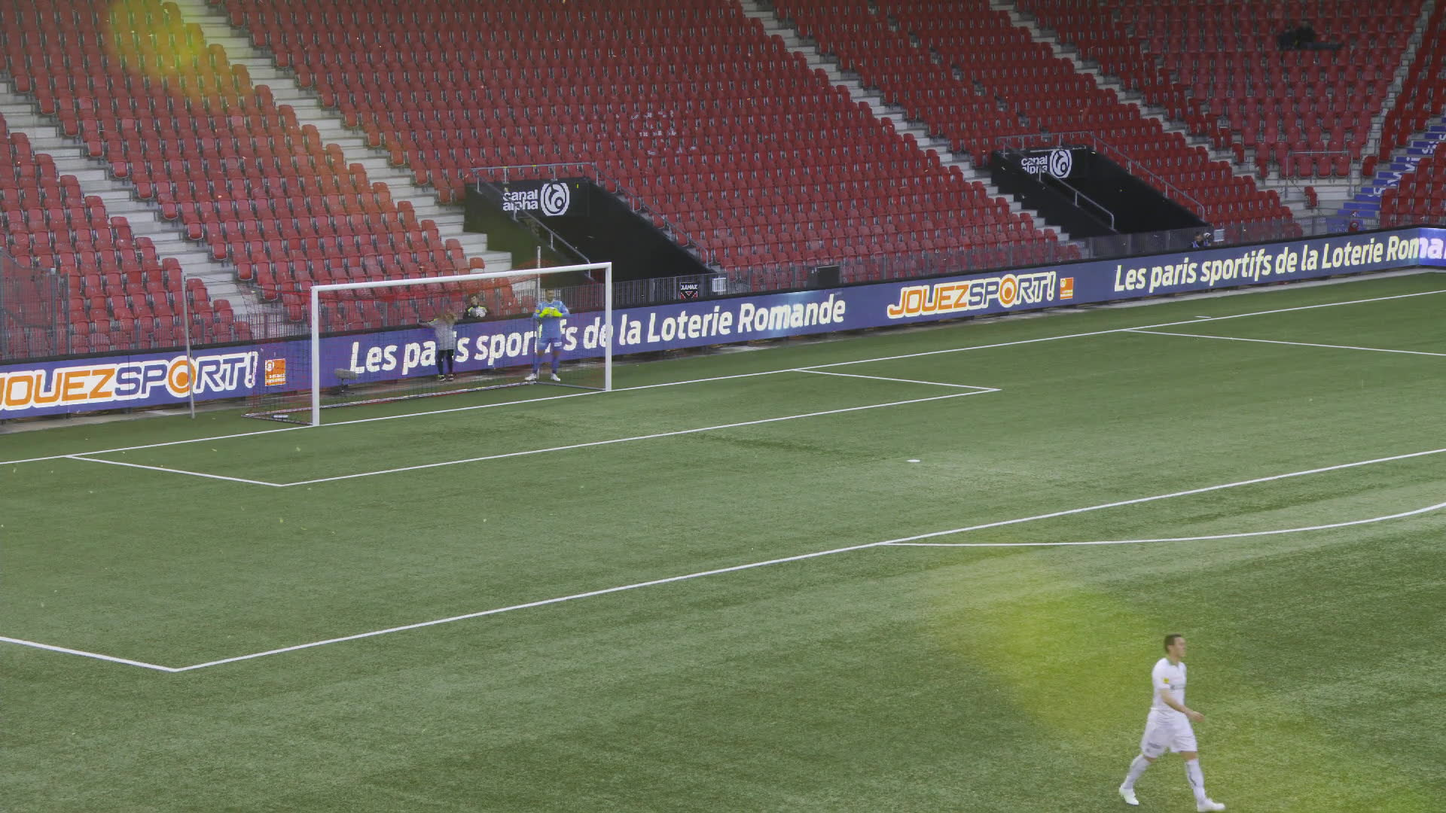ball: (546, 306, 556, 316)
player: (1121, 631, 1225, 812), (526, 286, 567, 380)
